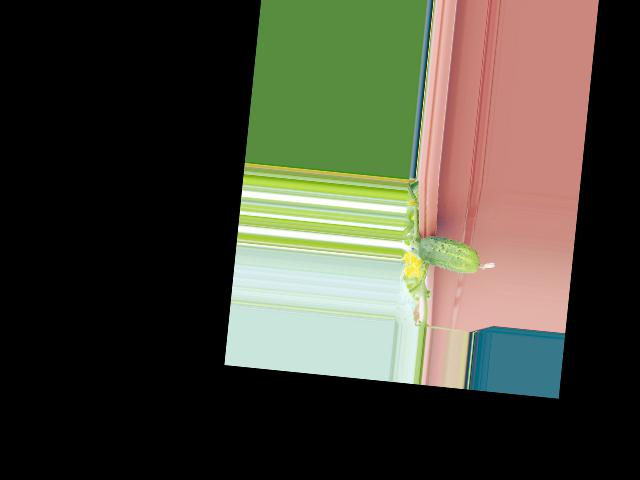cucumber: (415, 235, 497, 276)
